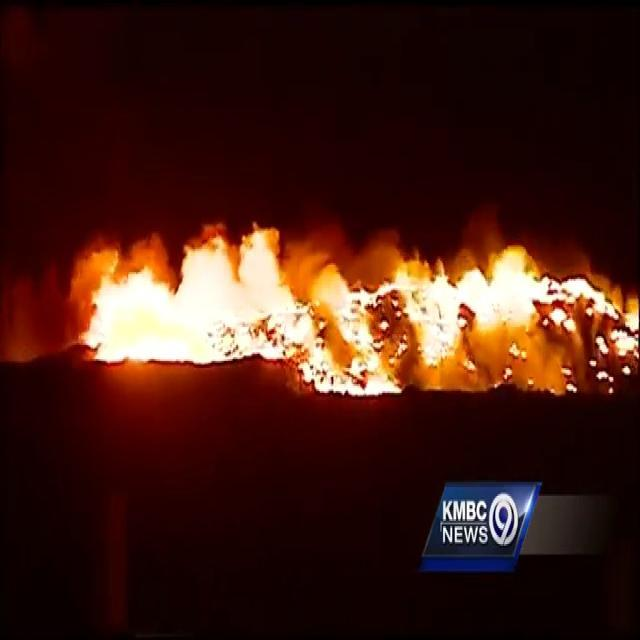Fire: (45, 198, 640, 398)
